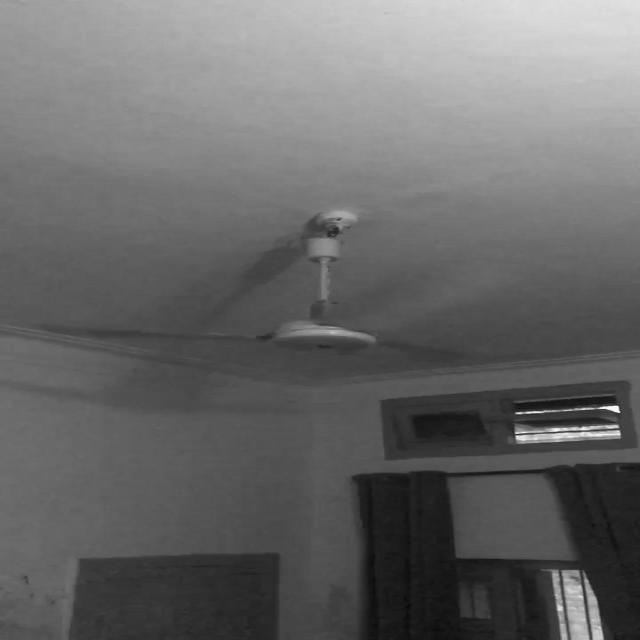fan: (53, 204, 593, 379)
